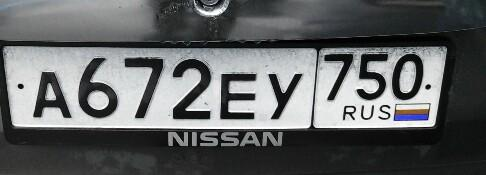license-plateSW: (5, 47, 459, 131)
